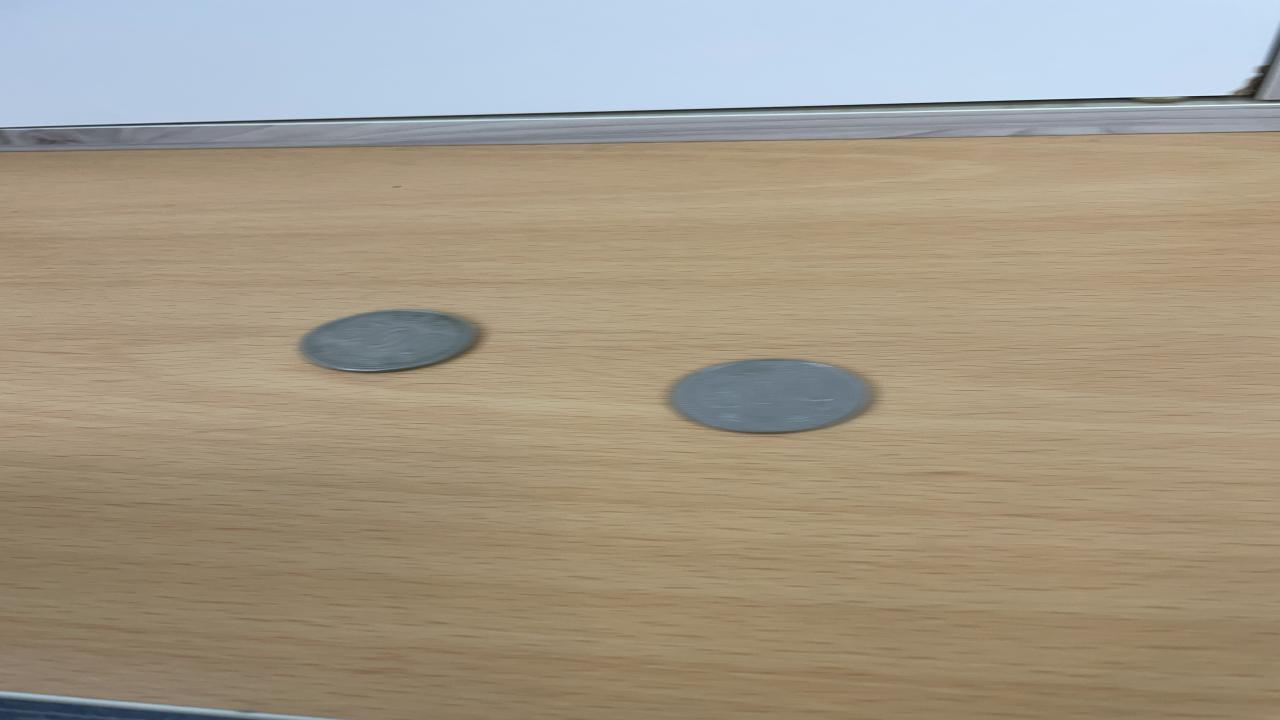coin: (666, 357, 873, 436), (290, 307, 482, 376)
